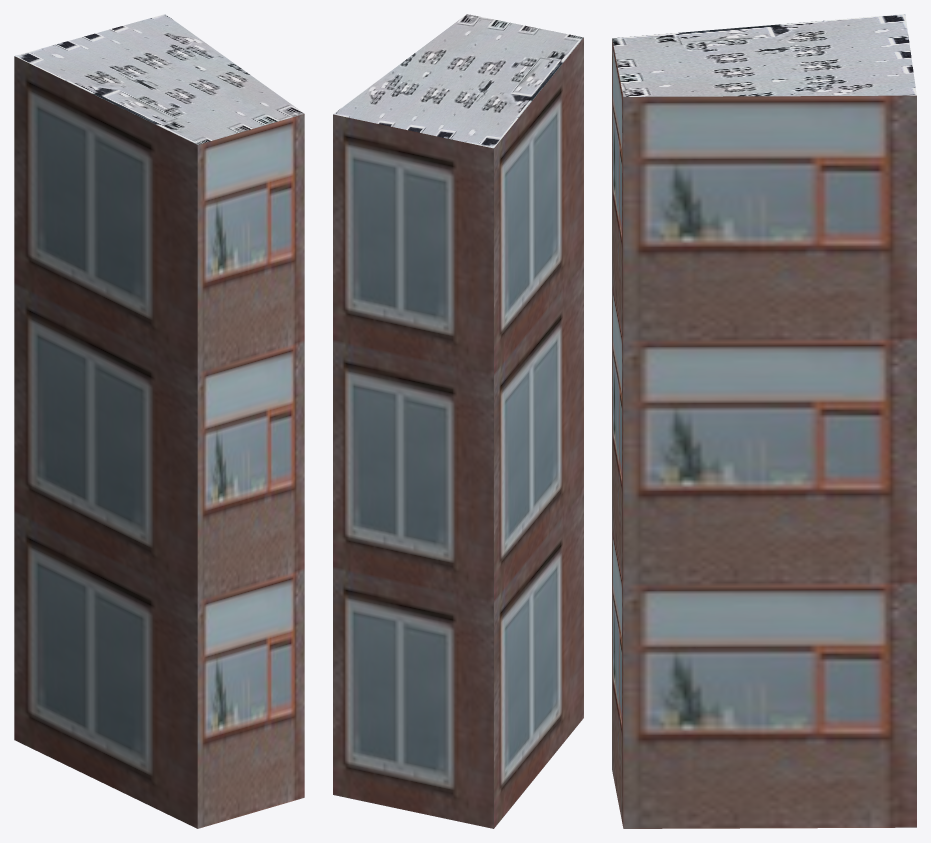
The model's file is ResTex__4639.fbx.
3 views of the same model, side by side, from view 1: azimuth 30°, elevation 25°; view 2: azimuth 150°, elevation 25°; view 3: azimuth 270°, elevation 25° (orthographic). The views are drawn at different scales.
Visible parts, largest first — view 1: CityEngineMaterial_19_m, CityEngineMaterial_15_m; view 2: CityEngineMaterial_19_m, CityEngineMaterial_15_m; view 3: CityEngineMaterial_19_m, CityEngineMaterial_15_m.
Boxes of the visible parts, x1,y1,x2,y2 form: CityEngineMaterial_19_m: [14, 56, 304, 828]; CityEngineMaterial_15_m: [14, 14, 304, 144]; CityEngineMaterial_19_m: [333, 38, 583, 828]; CityEngineMaterial_15_m: [333, 14, 583, 148]; CityEngineMaterial_19_m: [612, 38, 916, 828]; CityEngineMaterial_15_m: [612, 14, 916, 96].
Size of the model in its own units: 2.19 by 9 by 3.39.
Materials: 2 (2 with a texture image).
